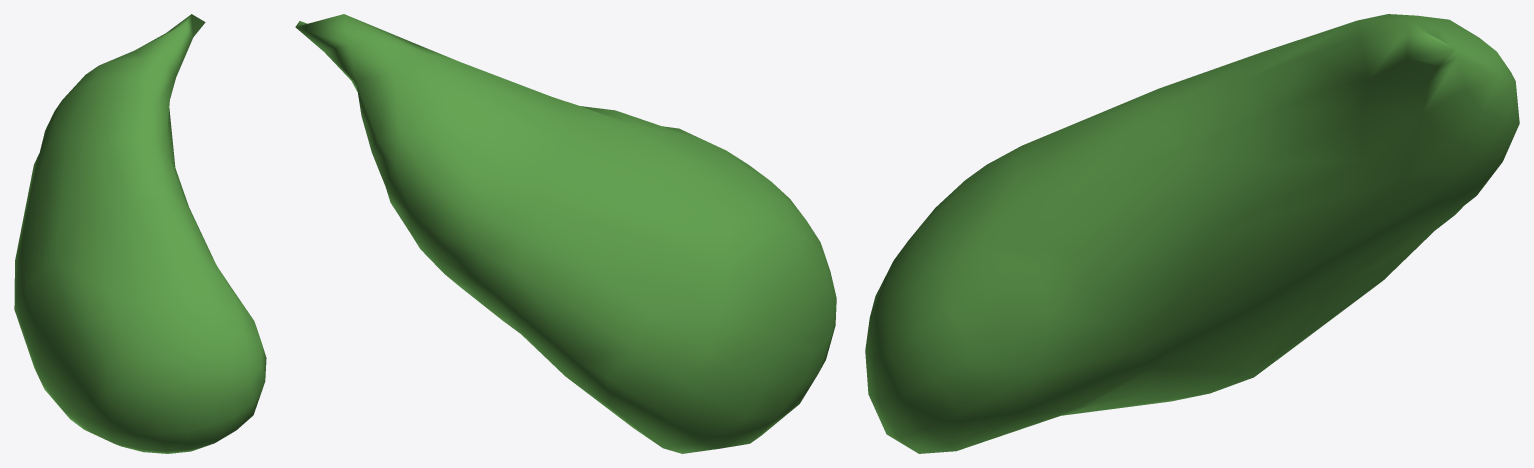
The model's file is visceras-gallbladder.glb.
3 renders of one model, left to right at view 1: azimuth 30°, elevation 25°; view 2: azimuth 150°, elevation 25°; view 3: azimuth 270°, elevation 25°, orthographic. The views are drawn at different scales.
Parts seen in each view (by area): view 1: Gallbladder; view 2: Gallbladder; view 3: Gallbladder.
Part boxes in pixels (left/top/right/bottom): Gallbladder: left=14, top=14, right=266, bottom=453; Gallbladder: left=295, top=14, right=836, bottom=453; Gallbladder: left=865, top=14, right=1519, bottom=453.
Bounding box in the file's own units: 0.0362 × 0.0435 × 0.0483.
